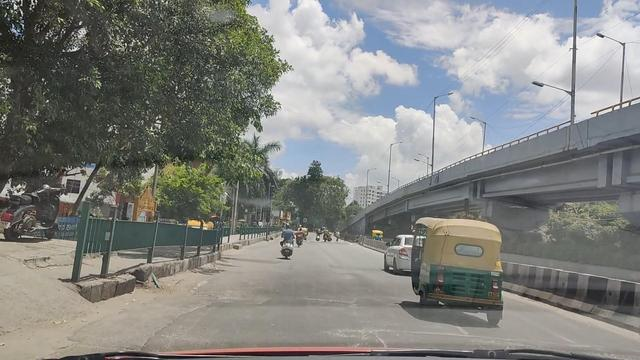LMV: (422, 213, 508, 314)
RoadDamages: (328, 308, 384, 349), (439, 326, 532, 348), (302, 286, 355, 306), (208, 288, 234, 305)
